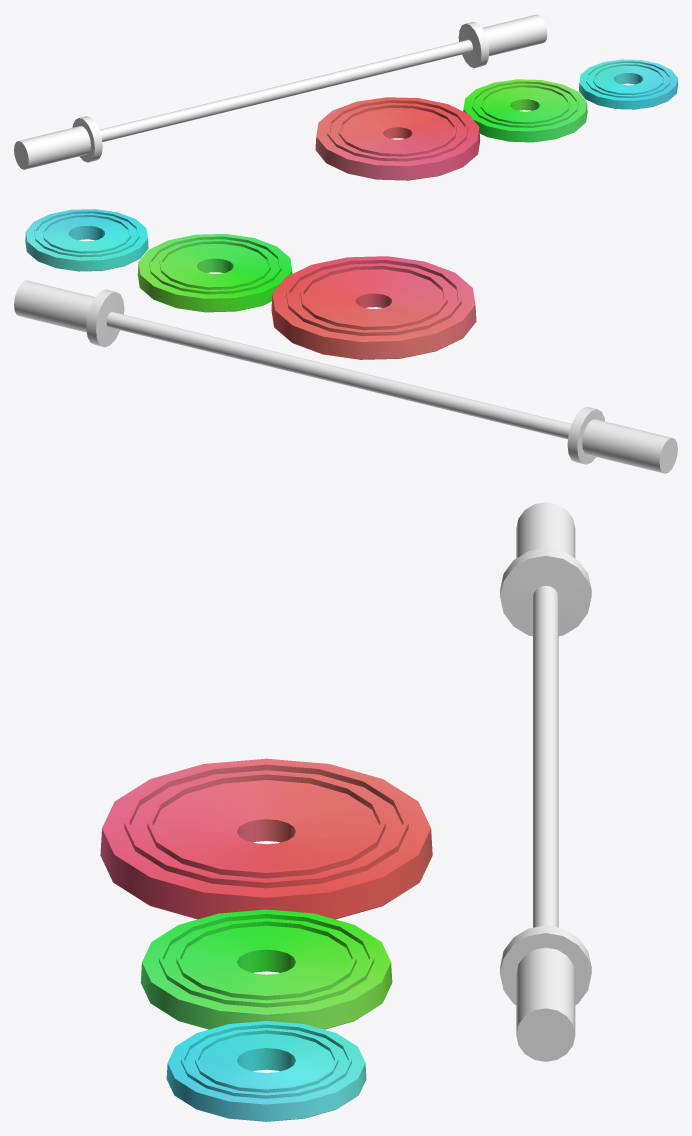
File: Gym_props.fbx
The picture shows the model from 3 angles, top to bottom: view 1: azimuth 30°, elevation 25°; view 2: azimuth 150°, elevation 25°; view 3: azimuth 270°, elevation 25°; orthographic projection. The views are drawn at different scales.
Parts seen in each view (by area): view 1: polySurface5, polySurface6, polySurface1, polySurface4; view 2: polySurface5, polySurface6, polySurface1, polySurface4; view 3: polySurface5, polySurface6, polySurface1, polySurface4.
Boxes of the visible parts, left/top/right/bottom form: polySurface5: left=315, top=97, right=480, bottom=180; polySurface6: left=14, top=14, right=547, bottom=169; polySurface1: left=463, top=79, right=587, bottom=142; polySurface4: left=579, top=59, right=677, bottom=109; polySurface5: left=271, top=256, right=476, bottom=359; polySurface6: left=14, top=280, right=677, bottom=473; polySurface1: left=137, top=234, right=292, bottom=312; polySurface4: left=25, top=209, right=148, bottom=271; polySurface5: left=100, top=758, right=432, bottom=919; polySurface6: left=500, top=502, right=591, bottom=1061; polySurface1: left=140, top=909, right=392, bottom=1029; polySurface4: left=166, top=1021, right=366, bottom=1121.
Bounding box in the file's own units: 1690 × 115 × 619.
